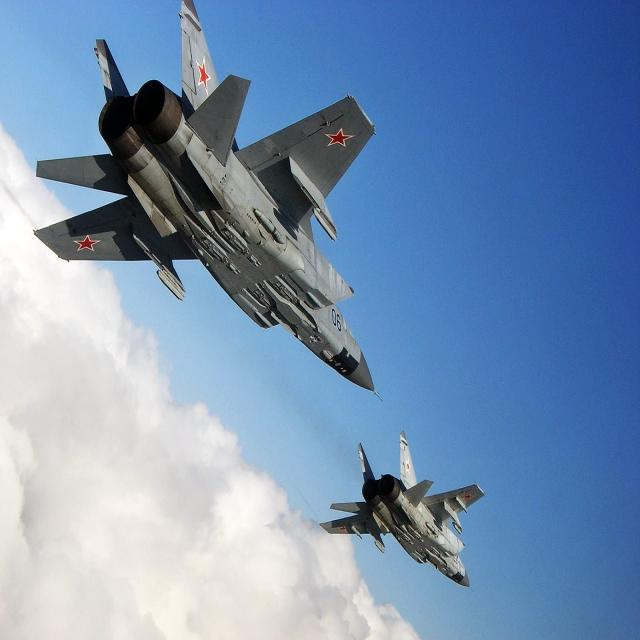MIL_Plane: (31, 1, 382, 402), (319, 430, 486, 592)
